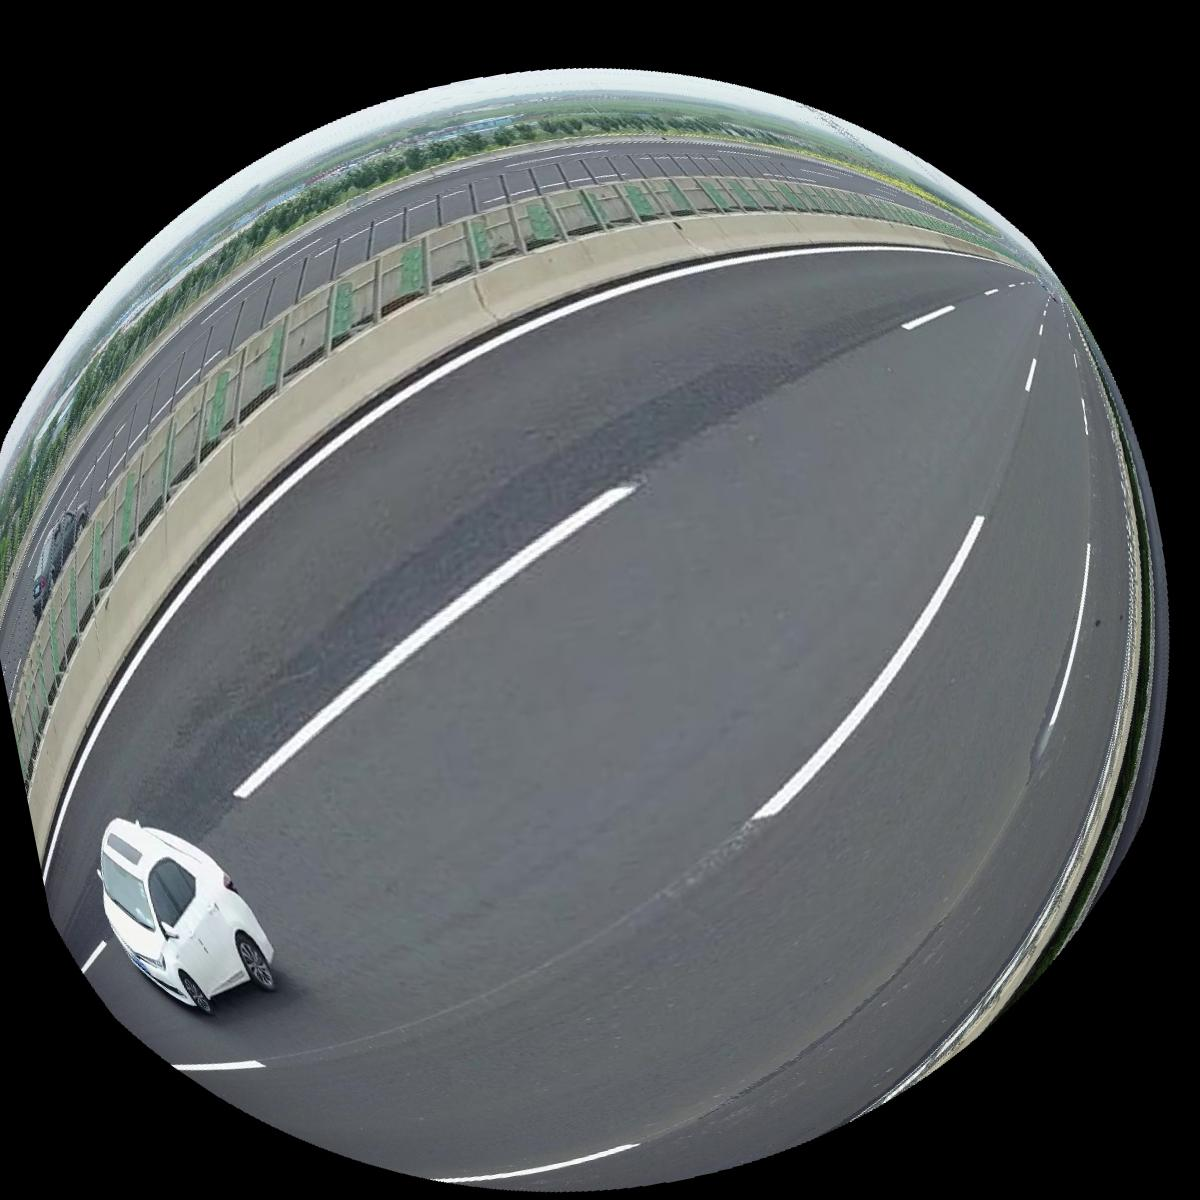cars: (96, 820, 273, 1015)
